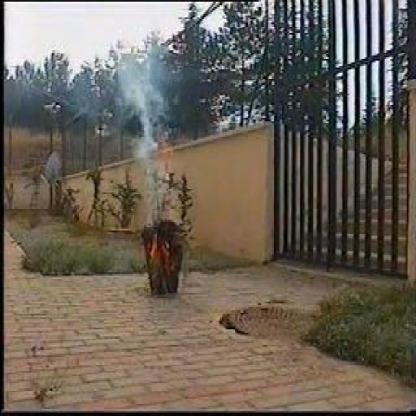-: (118, 61, 162, 152)
foggia-v2-map80-epoch100 - v1 4323: (148, 214, 164, 263)
